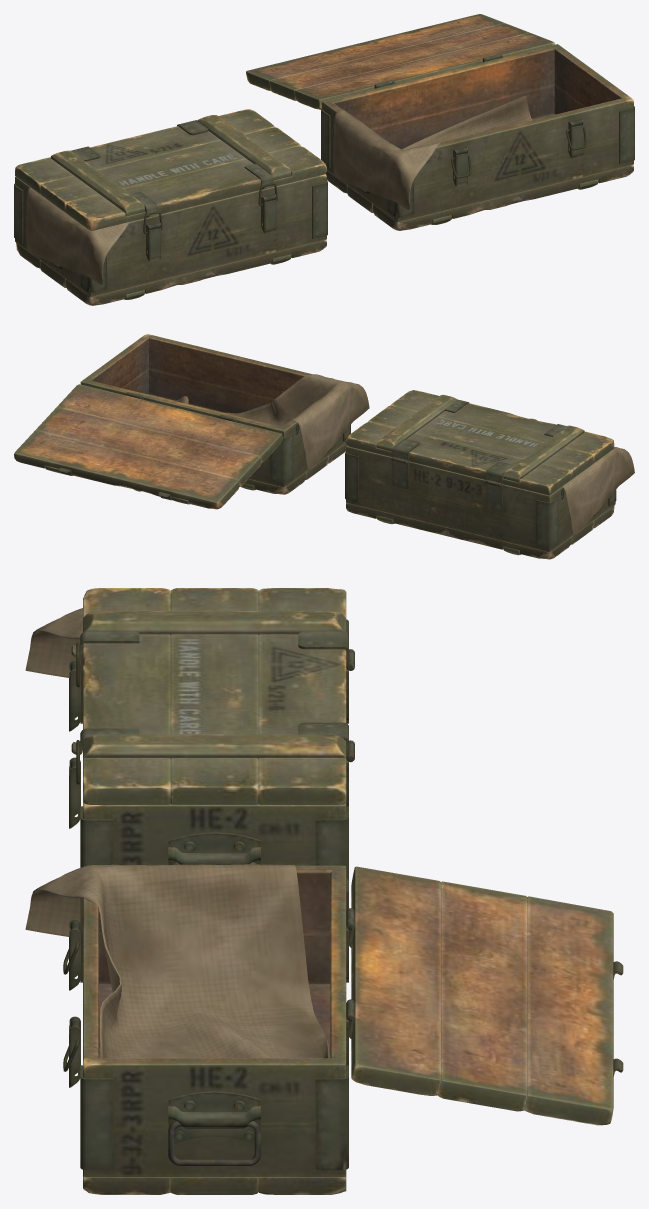
File: old_military_crate.glb
The picture shows the model from 3 angles, top to bottom: view 1: azimuth 30°, elevation 25°; view 2: azimuth 150°, elevation 25°; view 3: azimuth 270°, elevation 25°; orthographic projection. The views are drawn at different scales.
Parts seen in each view (by area): view 1: old_military_crate_lid_a; view 2: old_military_crate_lid_a; view 3: old_military_crate_lid_a.
Part boxes in pixels (left/top/right/bottom): old_military_crate_lid_a: left=14, top=14, right=634, bottom=305; old_military_crate_lid_a: left=14, top=334, right=634, bottom=559; old_military_crate_lid_a: left=25, top=588, right=623, bottom=1194.
Size of the model in its own units: 1.82 by 0.3009 by 0.9756.
Materials: 1 (1 with a texture image).
